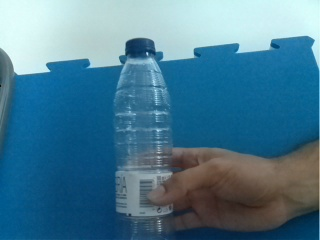botella plastico: (112, 36, 173, 240)
